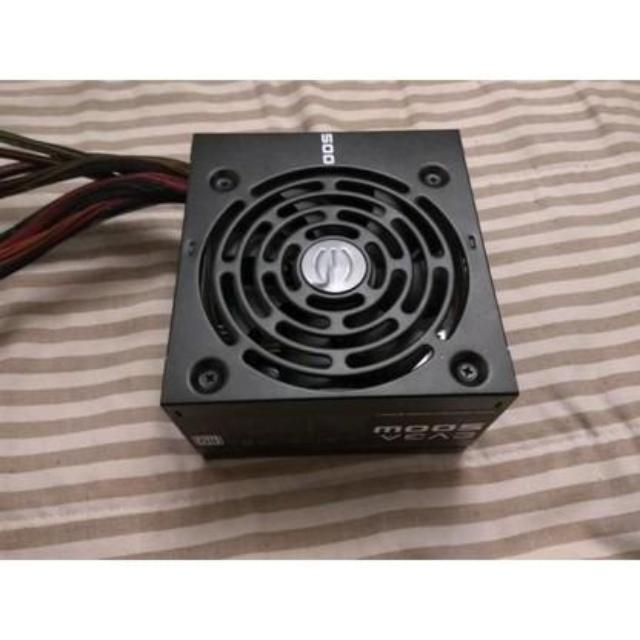PSU: (143, 121, 523, 476)
